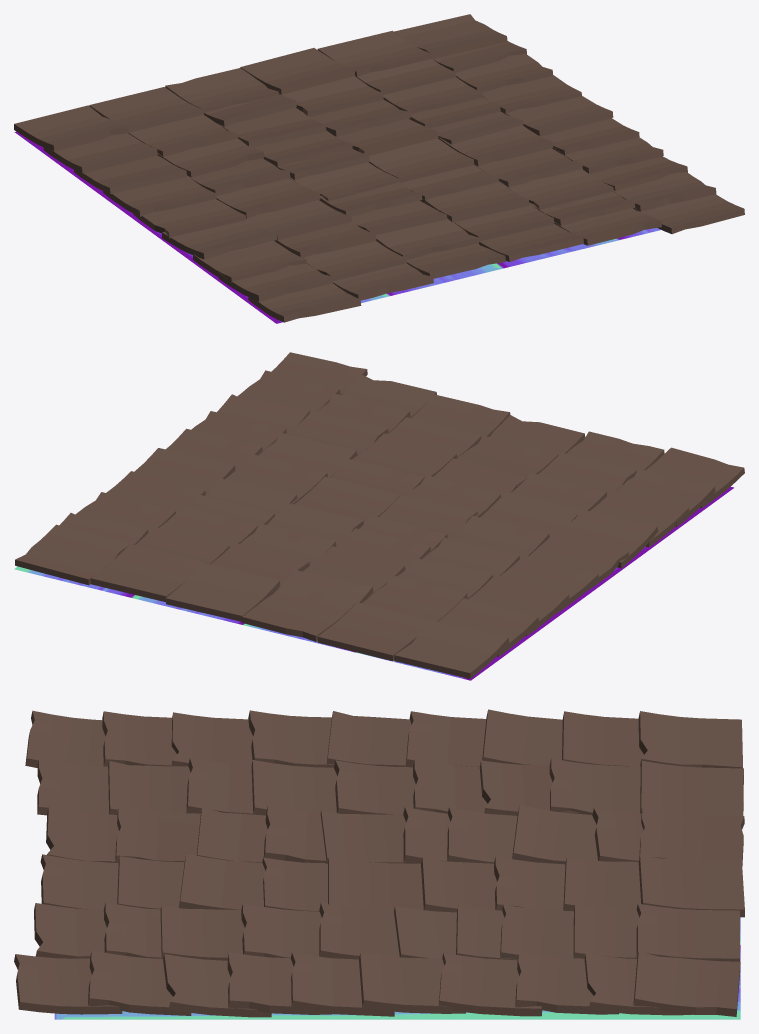
File: SM_Roof_A.fbx
The picture shows the model from 3 angles, top to bottom: view 1: azimuth 30°, elevation 25°; view 2: azimuth 150°, elevation 25°; view 3: azimuth 270°, elevation 25°; orthographic projection. The views are drawn at different scales.
Visible parts, largest first — view 1: SM_Roof_A; view 2: SM_Roof_A; view 3: SM_Roof_A.
Part boxes in pixels (x1=…): SM_Roof_A: x1=14, y1=14, x2=744, y2=323; SM_Roof_A: x1=14, y1=352, x2=744, y2=680; SM_Roof_A: x1=14, y1=709, x2=744, y2=1019.
Size of the model in its own units: 201 by 6.87 by 213.
